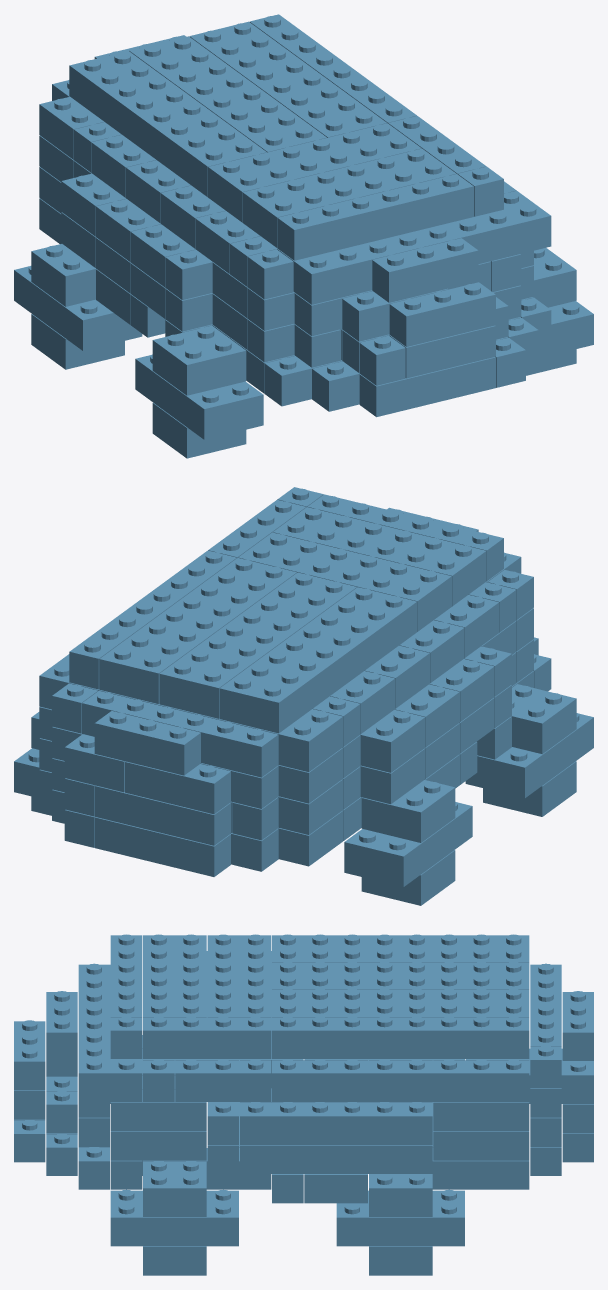
File: 141_car_L1.glb
The picture shows the model from 3 angles, top to bottom: view 1: azimuth 30°, elevation 25°; view 2: azimuth 150°, elevation 25°; view 3: azimuth 270°, elevation 25°; orthographic projection. The views are drawn at different scales.
Size of the model in its own units: 12.98 by 7.13 by 17.98.
